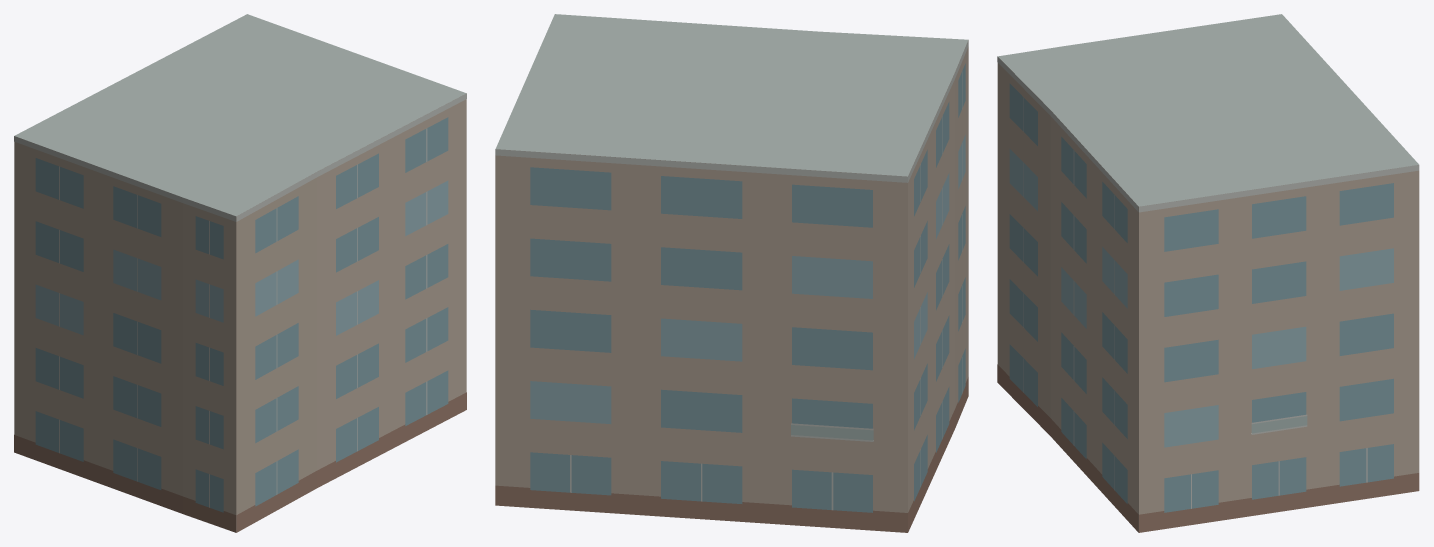
Rendered from survey-upis-32849674.glb.
3 renders of one model, left to right at view 1: azimuth 30°, elevation 25°; view 2: azimuth 150°, elevation 25°; view 3: azimuth 270°, elevation 25°, orthographic. The views are drawn at different scales.
Visible parts, largest first — view 1: survey-upis-32849674.tmp; view 2: survey-upis-32849674.tmp; view 3: survey-upis-32849674.tmp.
Boxes of the visible parts, x1,y1,x2,y2 form: survey-upis-32849674.tmp: (14,14,466,532); survey-upis-32849674.tmp: (495,14,968,532); survey-upis-32849674.tmp: (997,14,1419,532).
Size of the model in its own units: 17.37 by 13.7 by 16.07.
